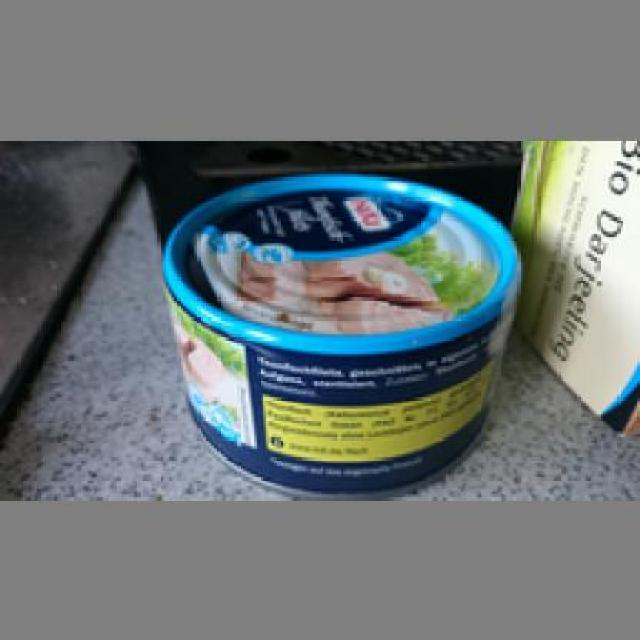Fish: (157, 172, 523, 498)
